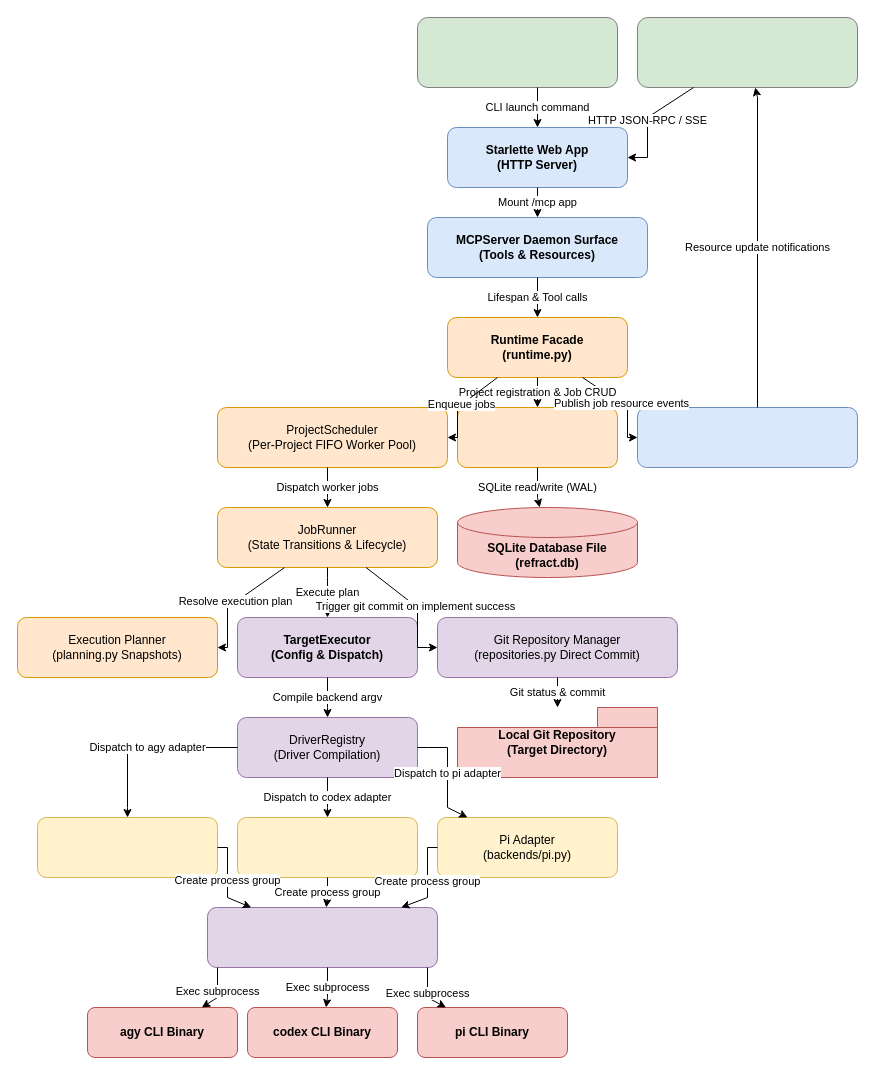
The diagram is 875 pixels wide and 1075 high, and some of its shapes have lost their labels. Here are the shapes that lost their labels. From the top down, the centre of each, then its label:
At point (517, 52): "Refract CLI (refract serve / doctor)".
At point (747, 52): "MCP Client / IDE (Cursor / VSCode / Claude Desktop)".
At point (537, 437): "Database DAO (database.py)".
At point (747, 437): "InMemorySubscriptionBus (Resource Notifications)".
At point (127, 847): "Antigravity Adapter (backends/agy.py)".
At point (327, 847): "Codex Adapter (backends/codex.py)".
At point (322, 937): "Process Manager (processes.py Group Lifecycle)".
